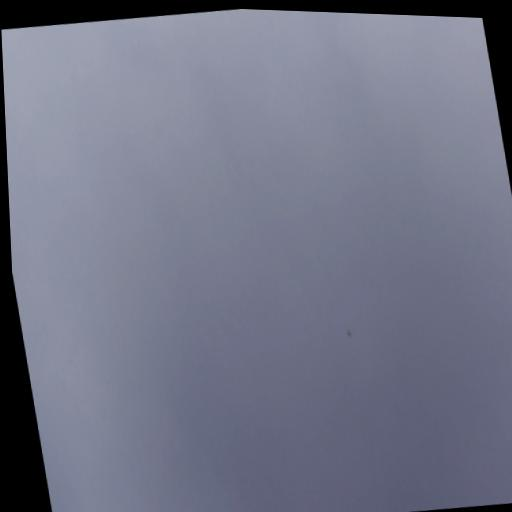drones: (345, 327, 354, 341)
